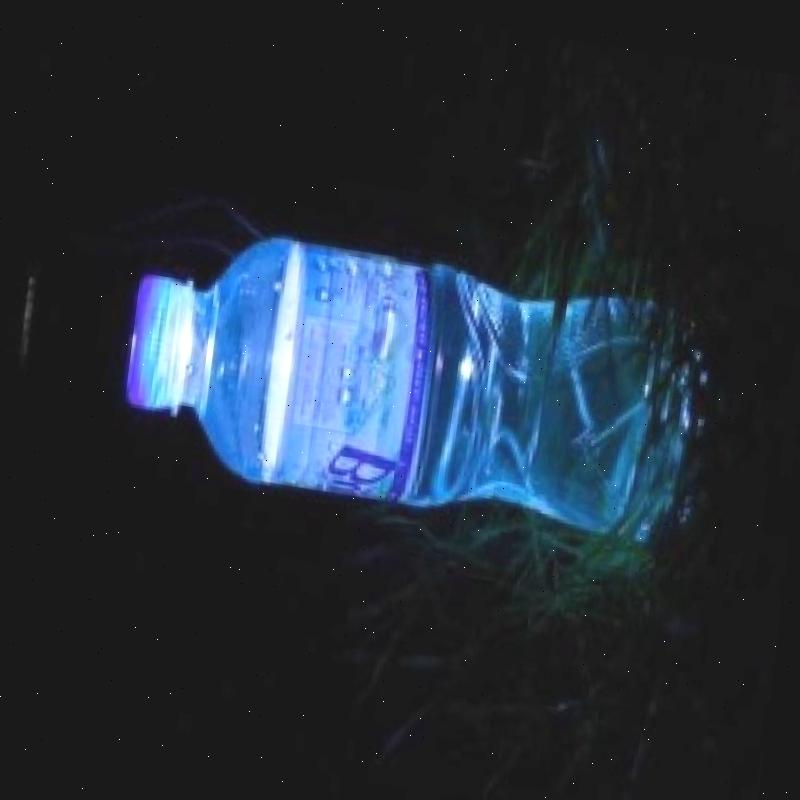botella: (112, 209, 714, 549)
